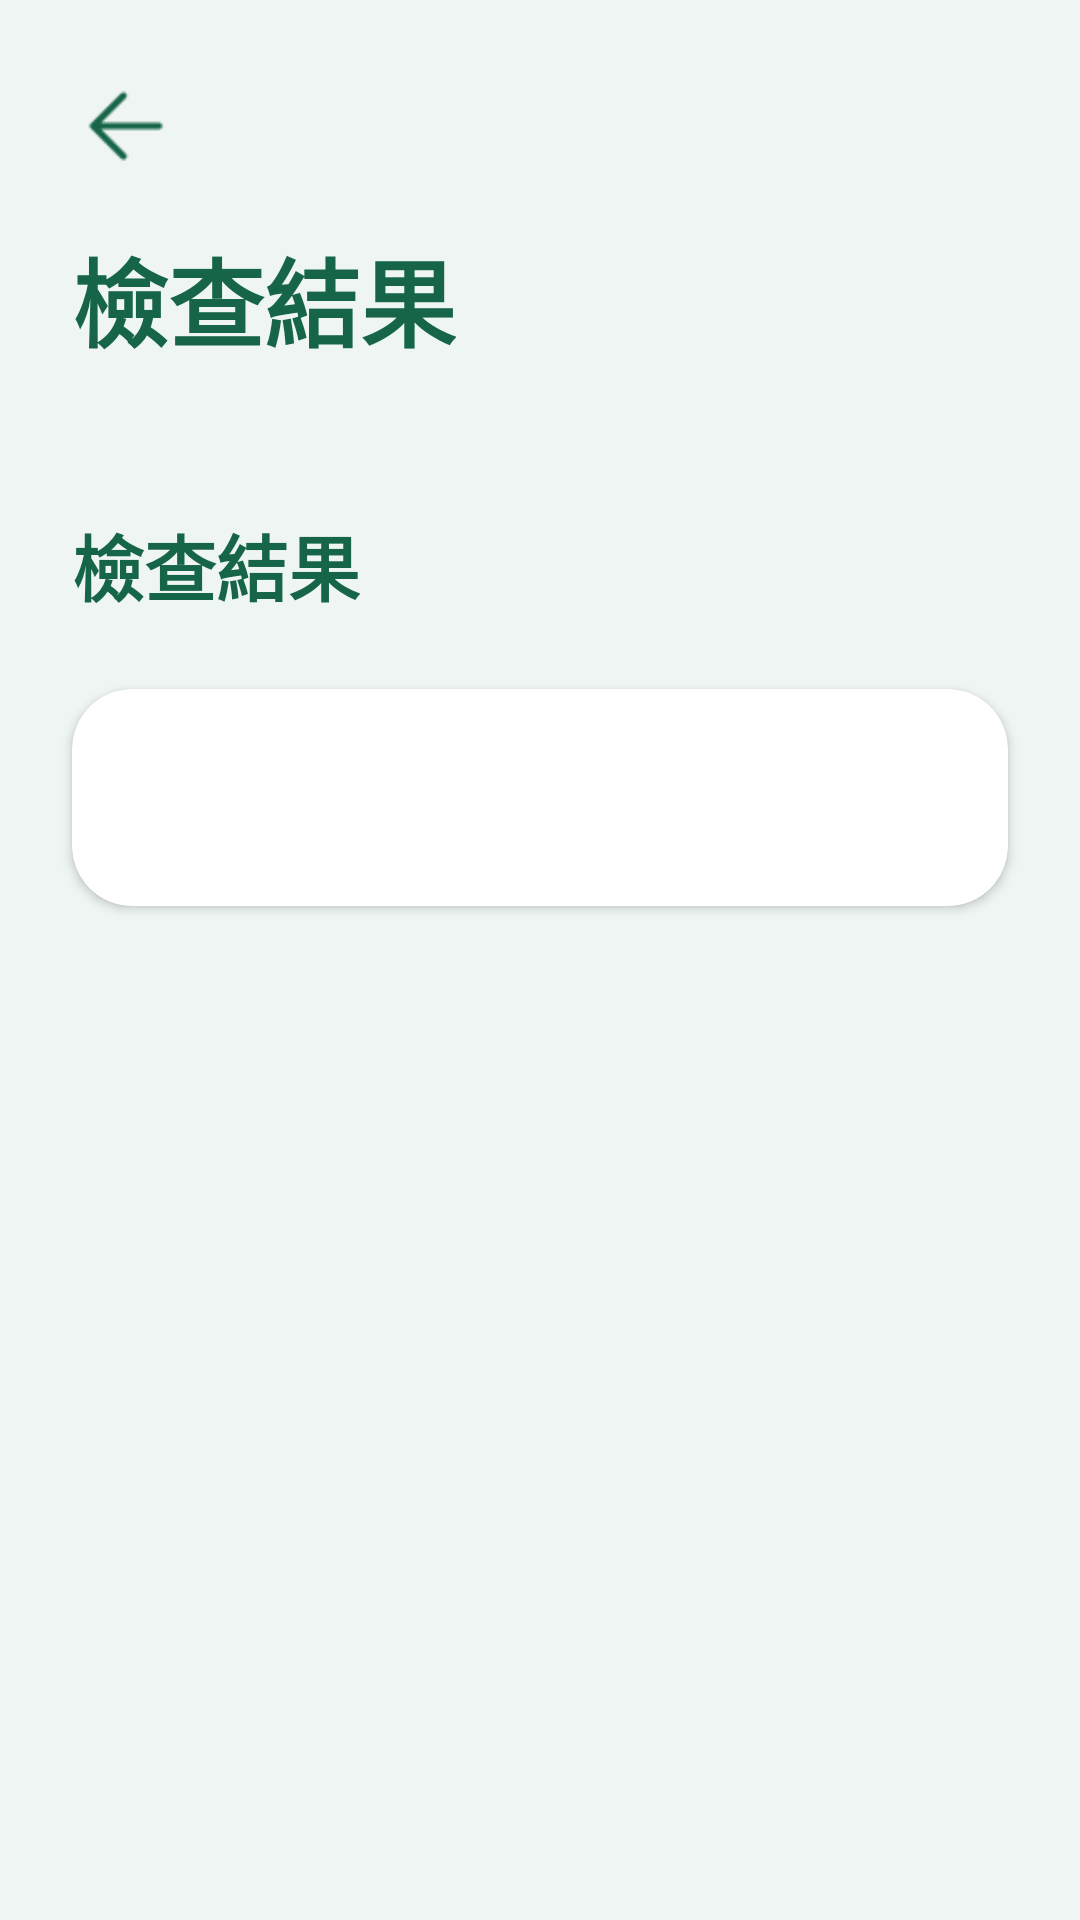

Where to tap for icons on this 1080w x 1920h app screen, as (x=x, y=y):
back: (x=126, y=126)
